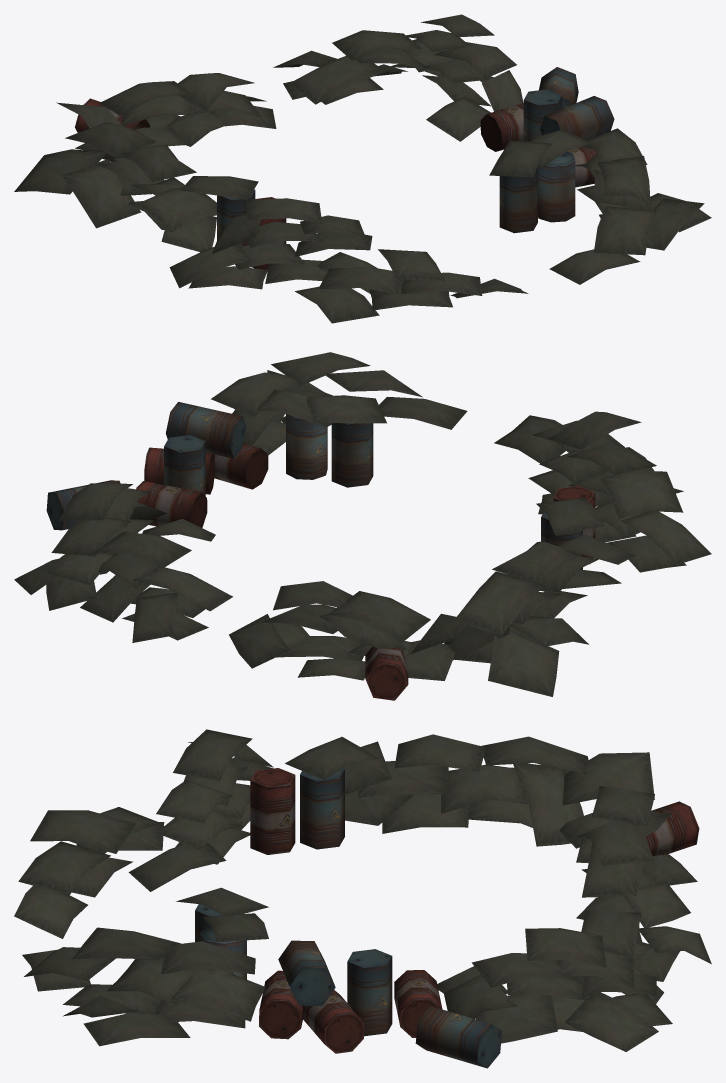
The model's file is wm_pvpairdrop.FBX.
3 renders of one model, top to bottom at view 1: azimuth 30°, elevation 25°; view 2: azimuth 150°, elevation 25°; view 3: azimuth 270°, elevation 25°, orthographic. The views are drawn at different scales.
Parts seen in each view (by area): view 1: wm_pvpairdrop; view 2: wm_pvpairdrop; view 3: wm_pvpairdrop.
Part boxes in pixels (x1,y1,x2,y2): wm_pvpairdrop: (14, 14, 711, 323); wm_pvpairdrop: (14, 352, 711, 700); wm_pvpairdrop: (14, 729, 711, 1068).
Size of the model in its own units: 1.44 by 0.2417 by 1.44.
Materials: 1 (1 with a texture image).
